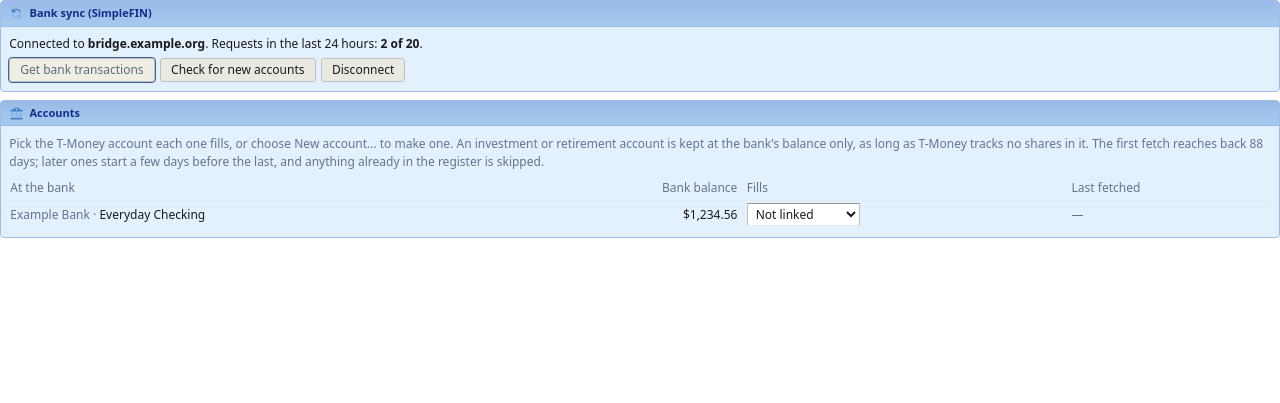
New account… from a SimpleFIN account › a currency with no rate says where to add one
Select "New account…" in the dropdown named "T-Money account for Everyday Checking". click: point(803, 215)
box: [747,203,860,226]
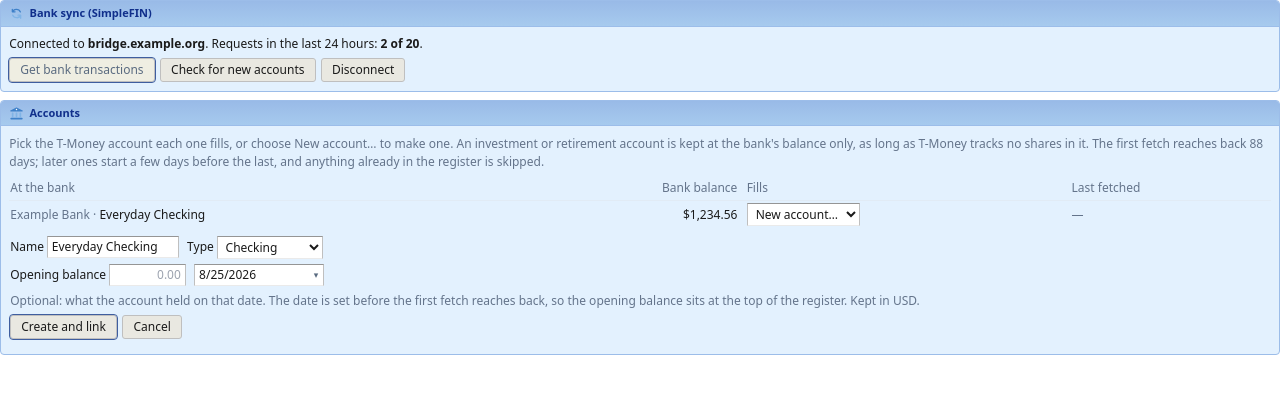
Submit the form named "New account for Everyday Checking", box [10,236,920,339]
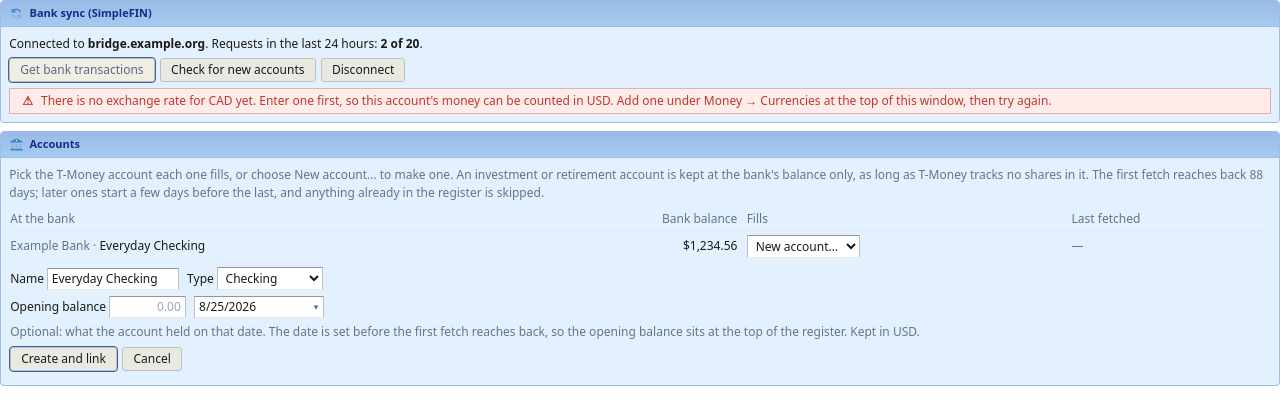
Expected: the form named "New account for" is shown, [10,267,920,370]
Expected: the text "Money → Currencies at the top of this window, then try again" is shown, [41,92,1052,109]
